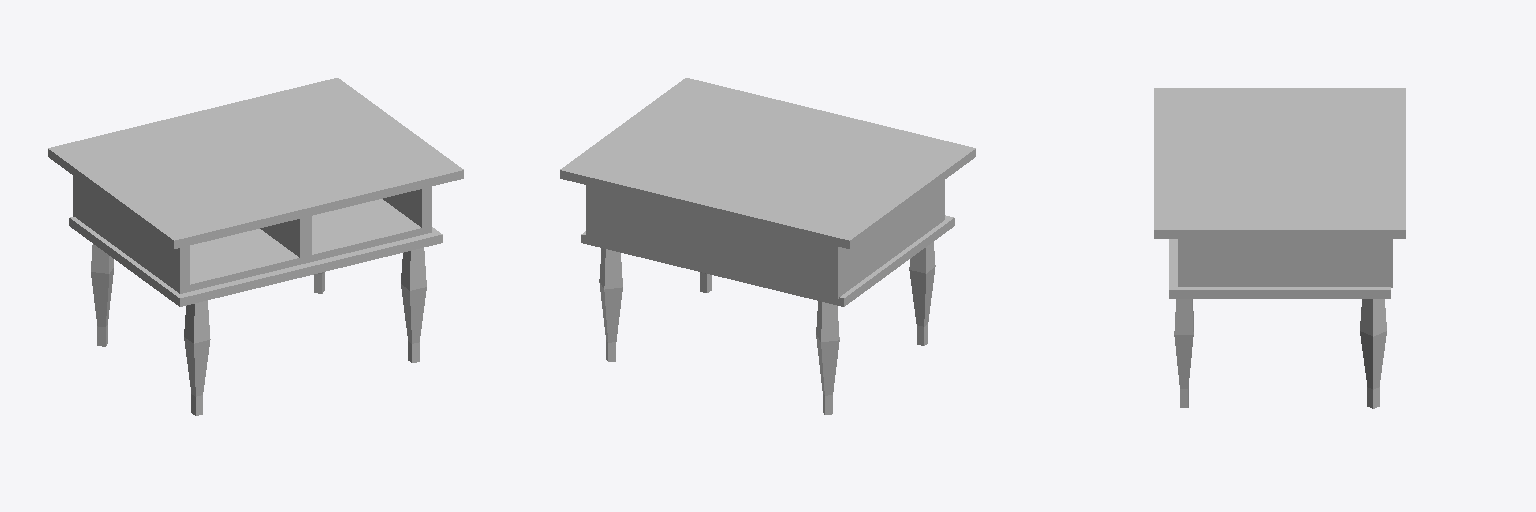
The model's file is table.obj.
The picture shows the model from 3 angles: view 1: azimuth 30°, elevation 25°; view 2: azimuth 150°, elevation 25°; view 3: azimuth 270°, elevation 25°; orthographic projection.
Parts seen in each view (by area): view 1: Table; view 2: Table; view 3: Table.
Part boxes in pixels (x1,y1,x2,y2): Table: (48,78,463,415); Table: (560,78,975,414); Table: (1154,88,1405,408).
Bounding box in the file's own units: 5.3 × 3.38 × 4.